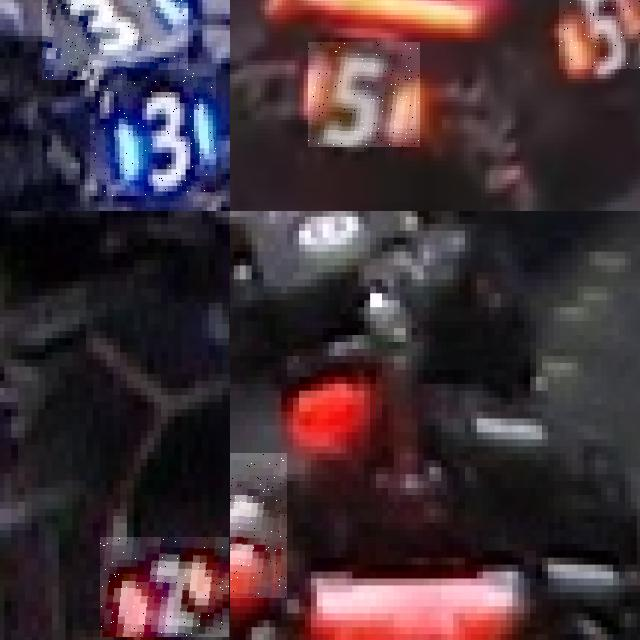B3: (90, 69, 216, 196), (42, 0, 188, 80)
R1: (230, 453, 287, 599)
R2: (100, 537, 229, 637)
R5: (308, 42, 420, 147), (559, 0, 640, 69)
